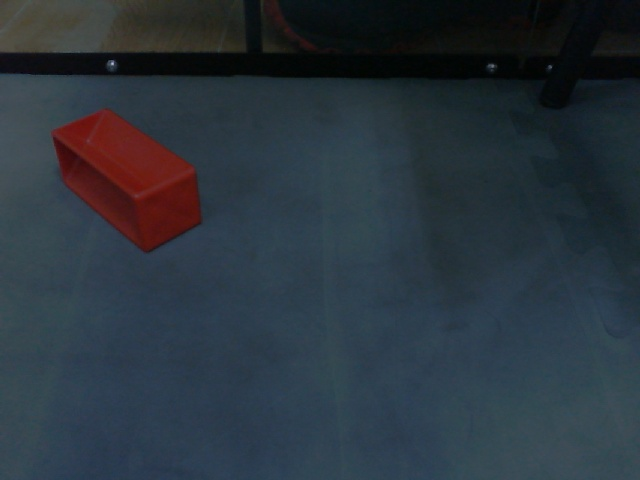RedSample: (49, 106, 205, 255)
